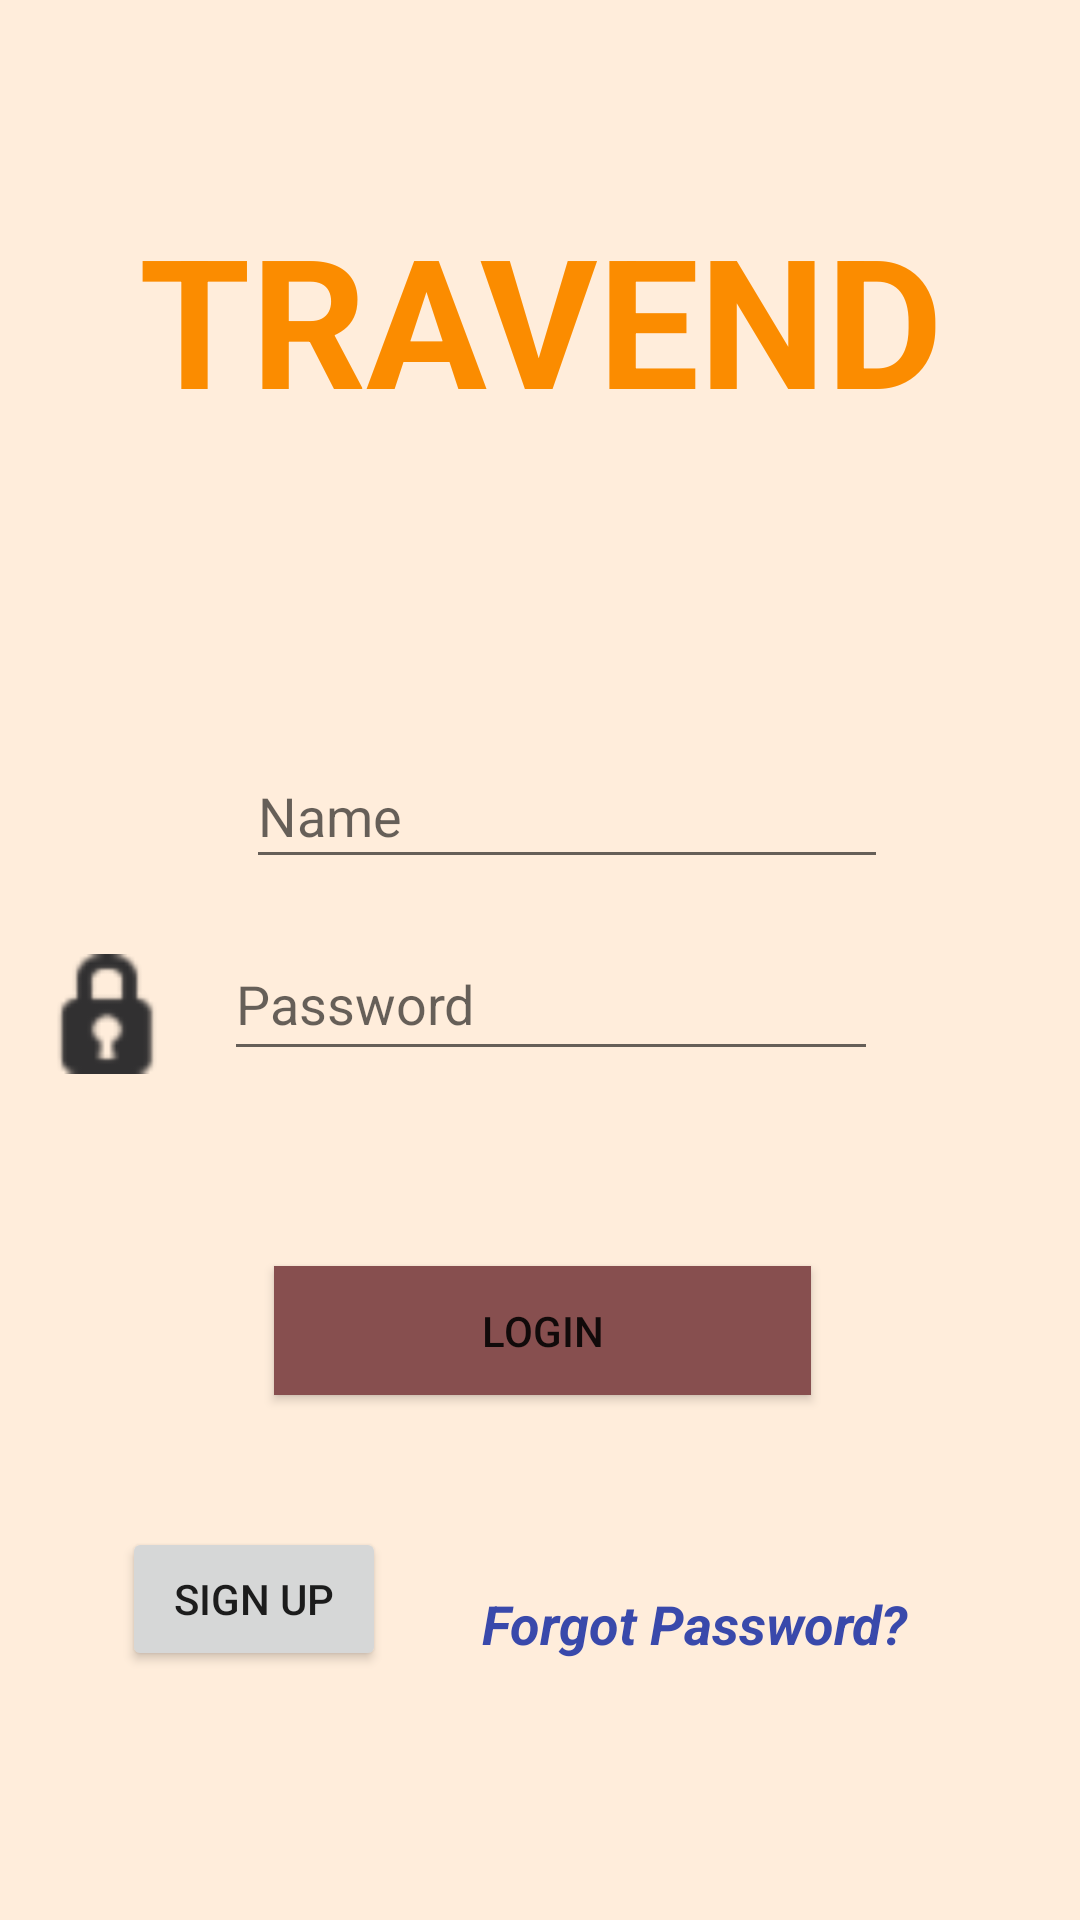

Icon bounding boxes for this 1080 × 1920 phone screenshot, format (x1, y1, x2, y2):
secure: (59, 954, 154, 1074)
